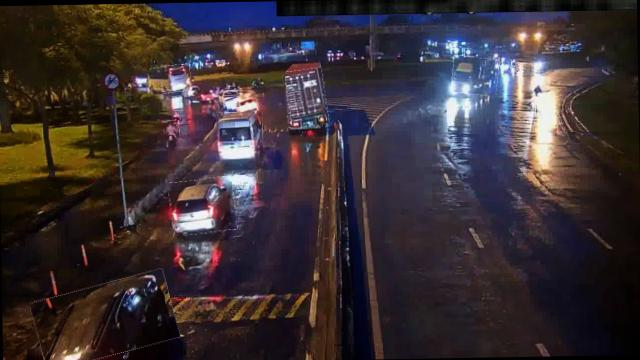Bike: (167, 120, 180, 147)
Bus: (215, 112, 263, 163), (149, 64, 191, 94)
Car: (33, 275, 178, 360), (169, 176, 236, 233), (226, 93, 259, 116)
Truck: (286, 68, 327, 126), (451, 56, 499, 96)
